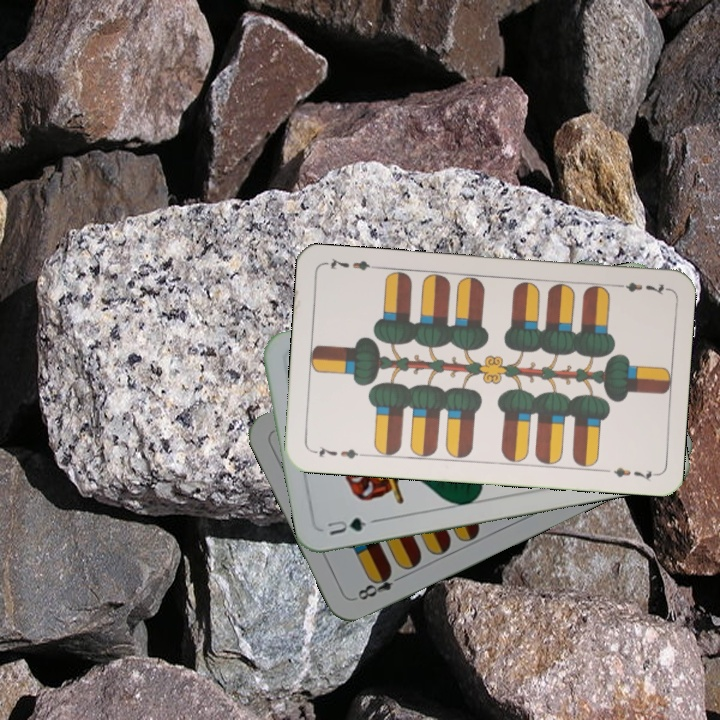E7: (610, 278, 669, 298), (308, 444, 368, 462)
E8: (353, 566, 407, 603)
GU: (323, 513, 379, 538)
